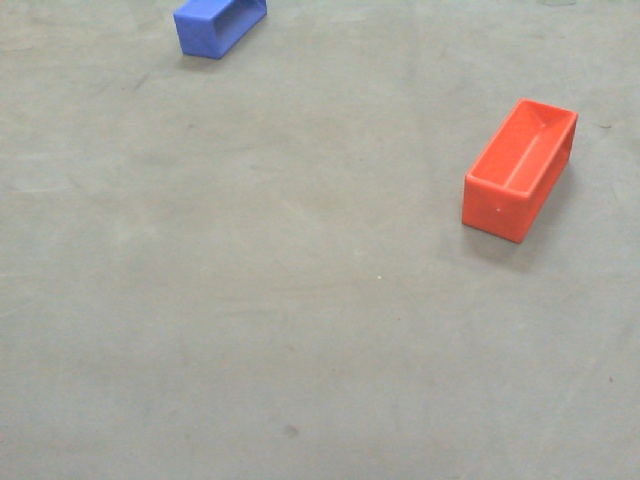BlueSample: (171, 1, 267, 64)
RedSample: (457, 95, 579, 251)
